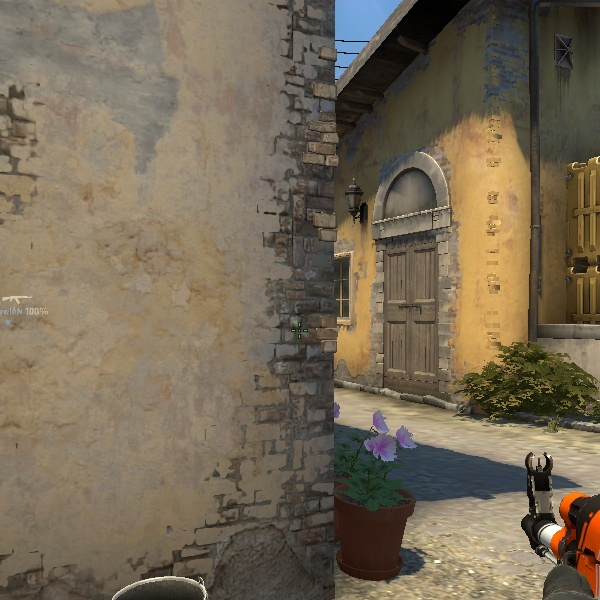t_body: (510, 442, 598, 600)
